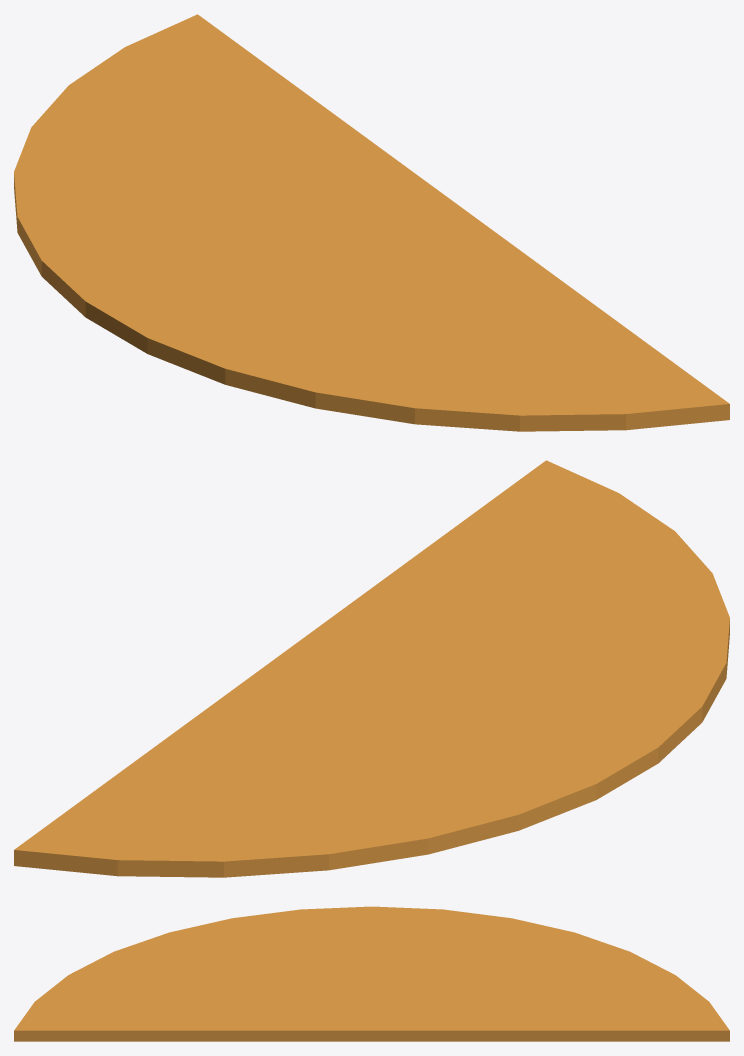
3 views of the same model, one above another, from view 1: azimuth 30°, elevation 25°; view 2: azimuth 150°, elevation 25°; view 3: azimuth 270°, elevation 25° (orthographic). The views are drawn at different scales.
Visible parts, largest first — view 1: Cylinder; view 2: Cylinder; view 3: Cylinder.
Part boxes in pixels (box(x1,y1,x2,y2)): Cylinder: box(14, 14, 729, 431); Cylinder: box(14, 460, 729, 877); Cylinder: box(14, 906, 729, 1041).
Bounding box in the file's own units: 121 × 4.94 × 296.
